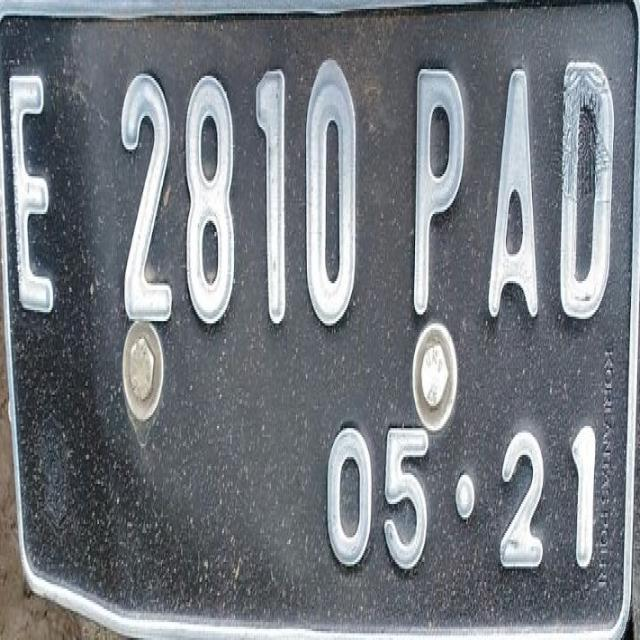plate: (1, 4, 636, 628)
